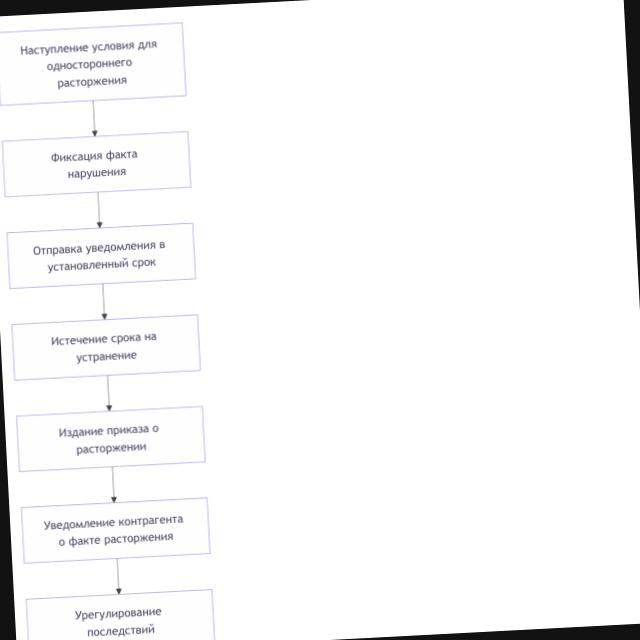arrow: (102, 284, 107, 319), (92, 102, 97, 136), (97, 193, 102, 227), (111, 468, 116, 502), (107, 376, 111, 410), (116, 559, 120, 584)
rectangle: (0, 23, 186, 105), (17, 406, 205, 472), (21, 498, 210, 563), (2, 132, 191, 197), (12, 315, 200, 380), (7, 224, 196, 288), (26, 590, 215, 639)
